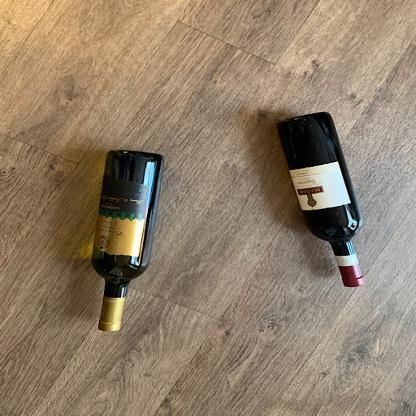trash: (275, 112, 367, 288), (89, 147, 168, 335)
